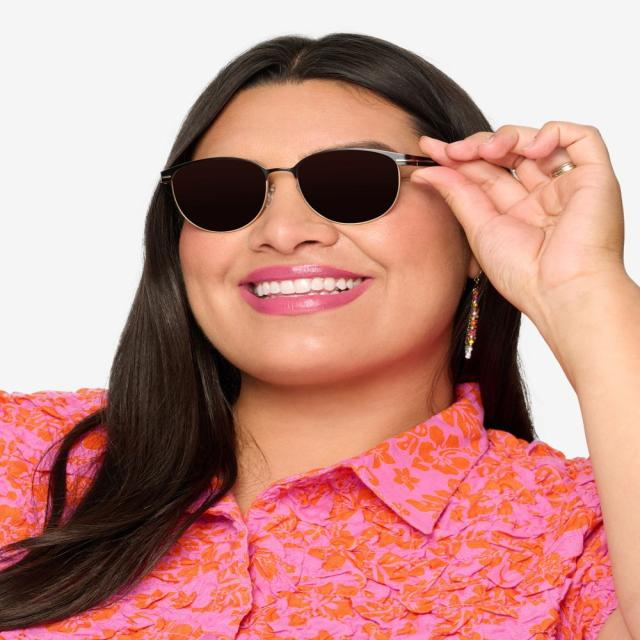2_gafas: (158, 146, 442, 234)
